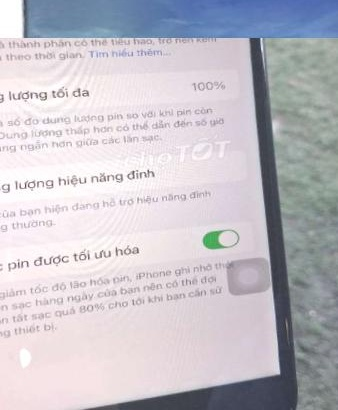screen_defect: (11, 338, 34, 374)
